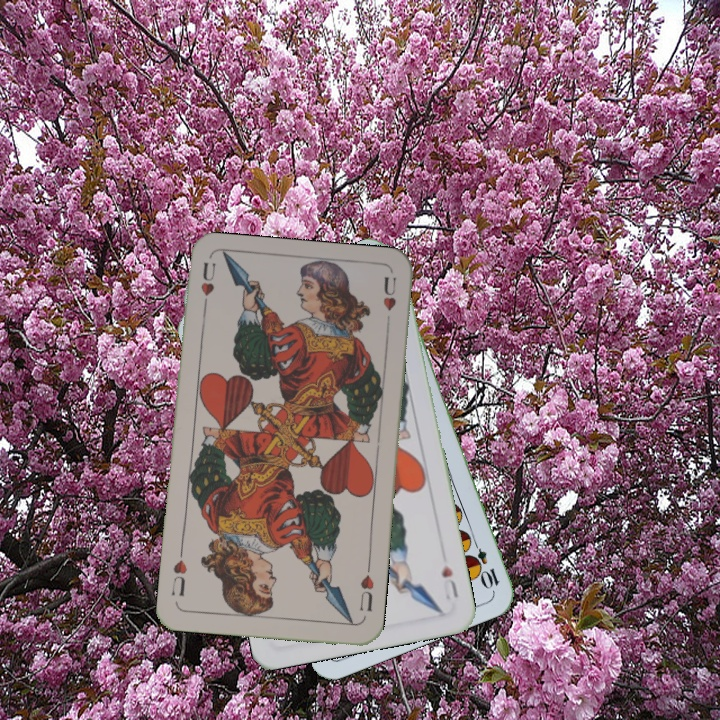E10: (466, 534, 502, 591)
HU: (196, 258, 218, 316), (355, 561, 377, 614), (437, 561, 461, 603)
